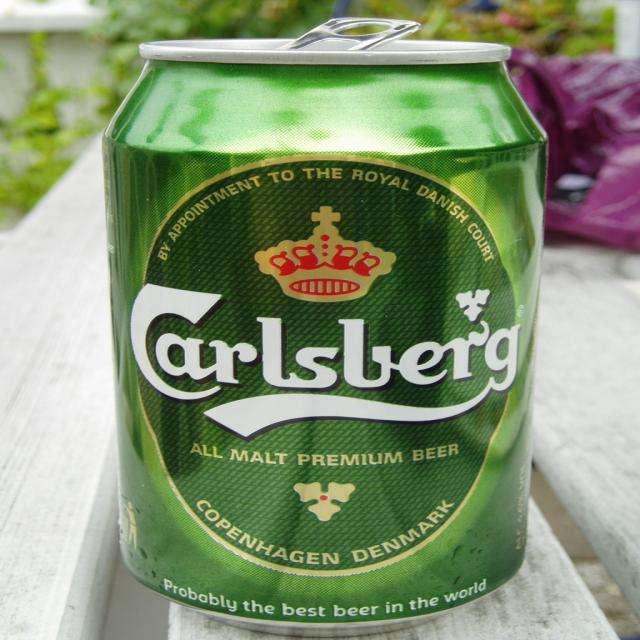carlsberg: (121, 151, 525, 578)
